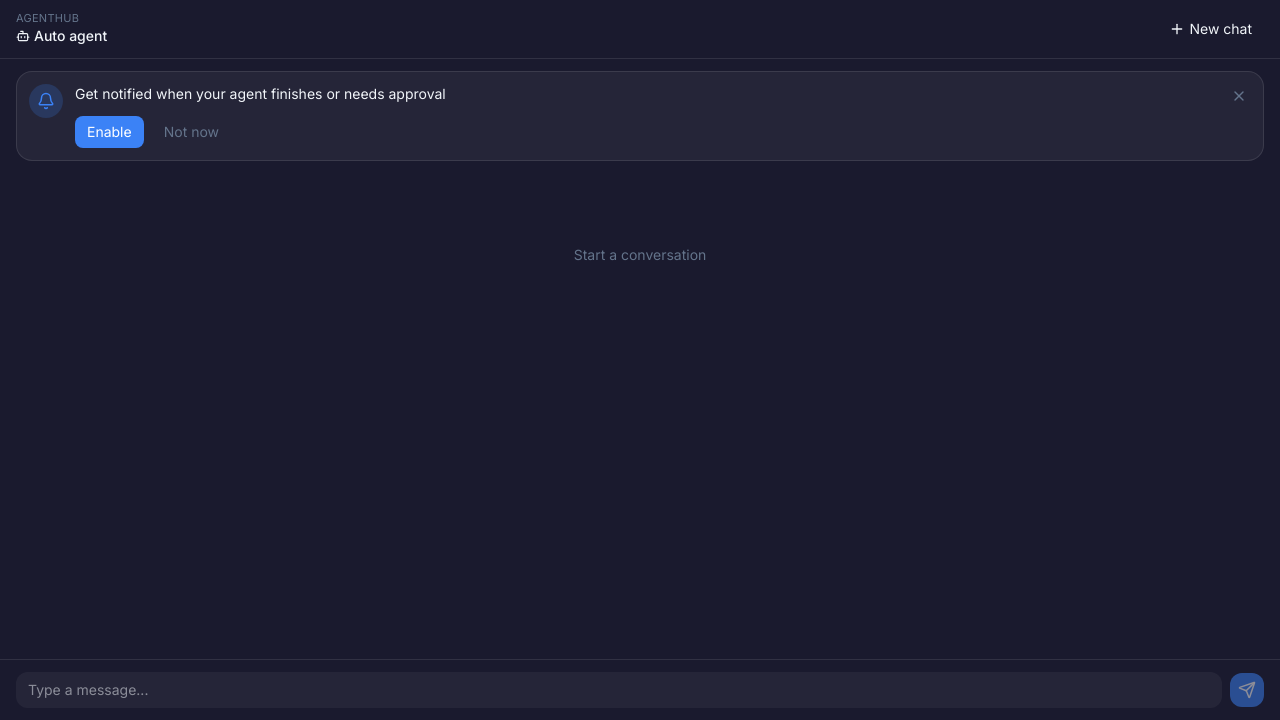
Test: MobileChat › renders markdown in assistant replies (bold, inline code, headings)
This screenshot has width=1280, height=720.
Type "oi" into the field with placeholder "Type a message..." at (619, 690), box x1=16 y1=672 x2=1222 y2=708
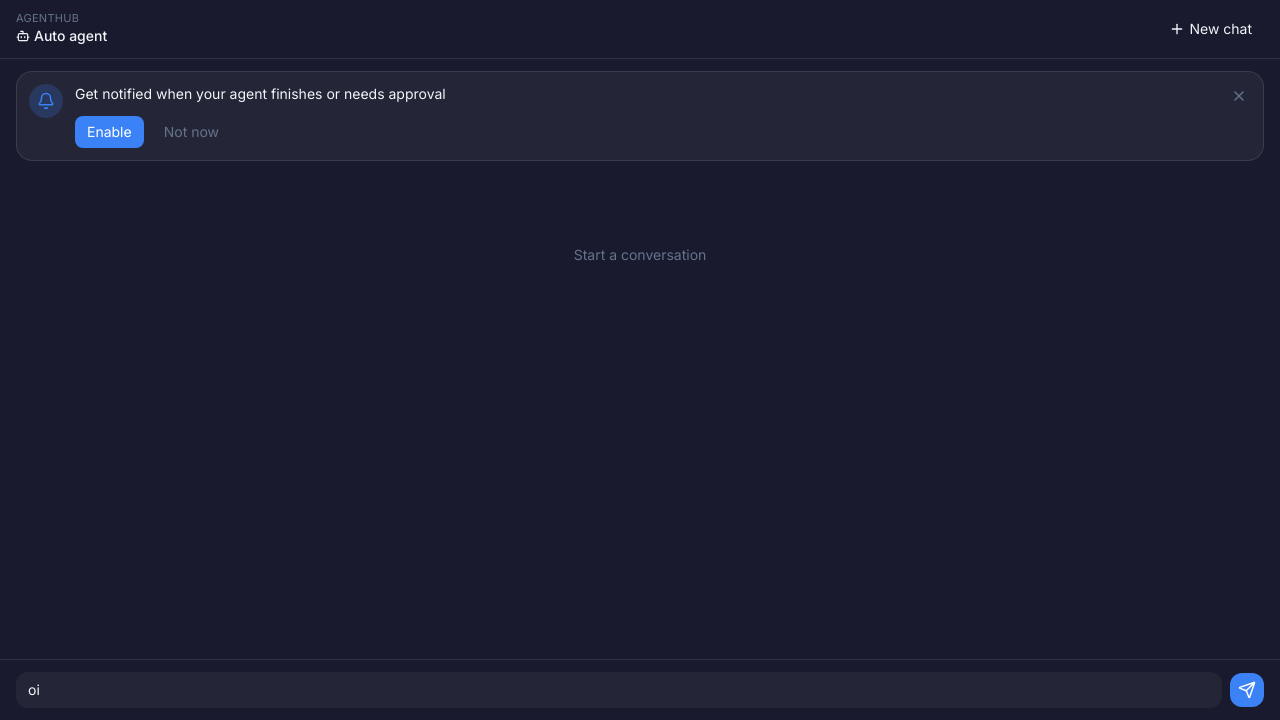
Click the button named "Send message" at (1247, 690), box x1=1230 y1=673 x2=1264 y2=707
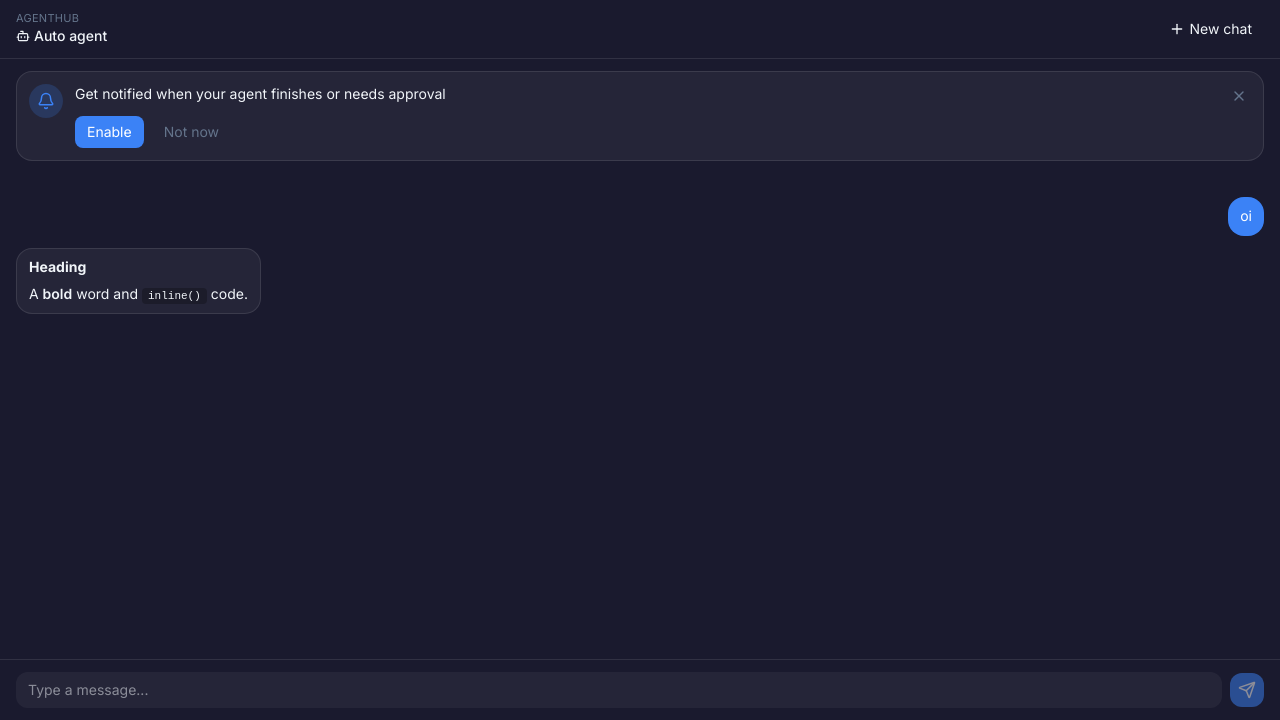
Check: the heading "Heading" is shown, box x1=29 y1=258 x2=86 y2=274
Check: the text "bold" is shown, box x1=43 y1=284 x2=72 y2=302
Check: the text "inline()" is shown, box x1=142 y1=288 x2=207 y2=304
